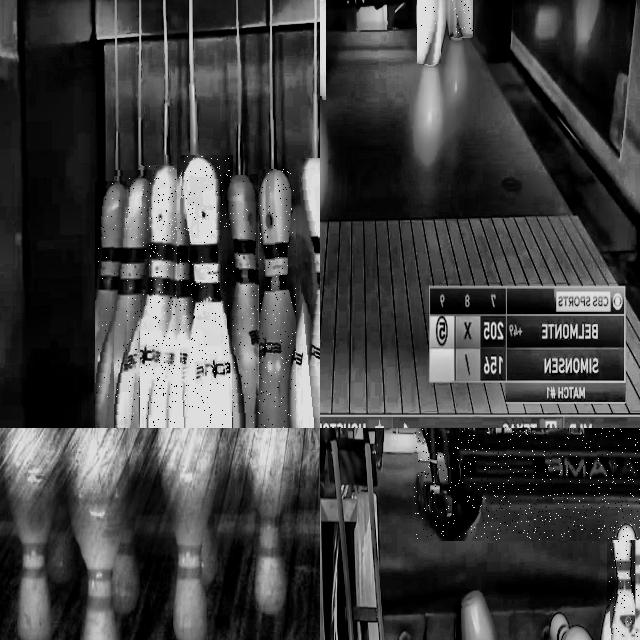bowling-pins: (179, 156, 232, 428), (250, 169, 295, 428), (141, 166, 177, 428), (116, 170, 149, 428), (95, 181, 126, 428), (227, 176, 257, 428), (302, 158, 320, 428), (609, 521, 634, 640), (418, 0, 438, 64), (631, 518, 640, 640), (452, 0, 472, 36)
sweep board: (419, 428, 640, 538)
